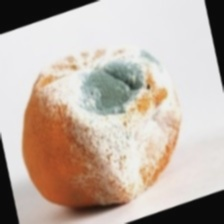orange: (8, 42, 176, 213)
